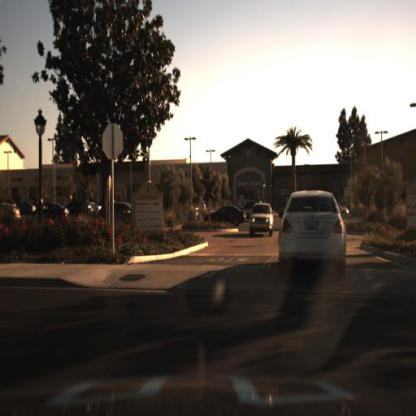car: (89, 197, 146, 230), (246, 200, 276, 238), (26, 200, 71, 223), (205, 204, 248, 228)
